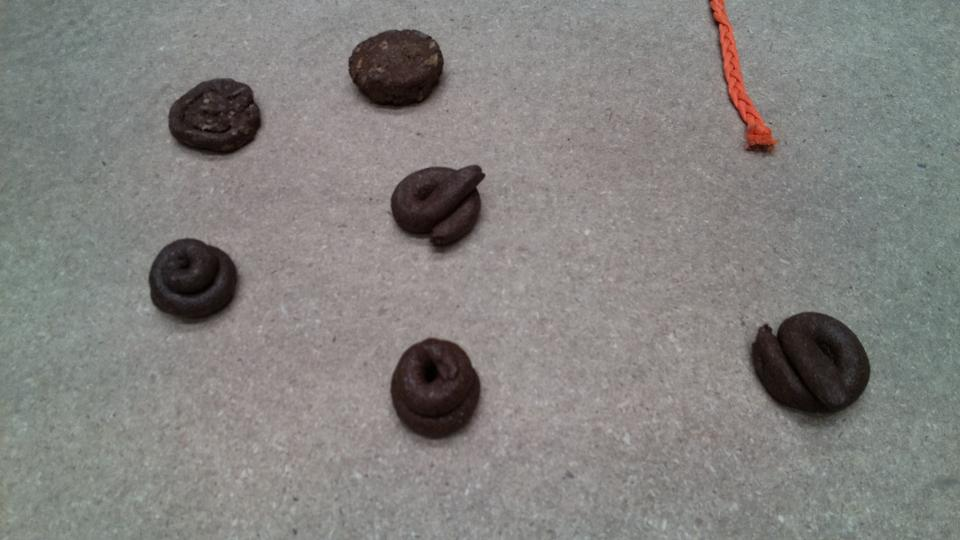poop: (745, 305, 873, 424), (383, 333, 482, 439), (389, 157, 489, 252), (145, 234, 241, 326), (344, 26, 446, 111), (165, 74, 265, 159)
rope: (706, 1, 781, 158)
